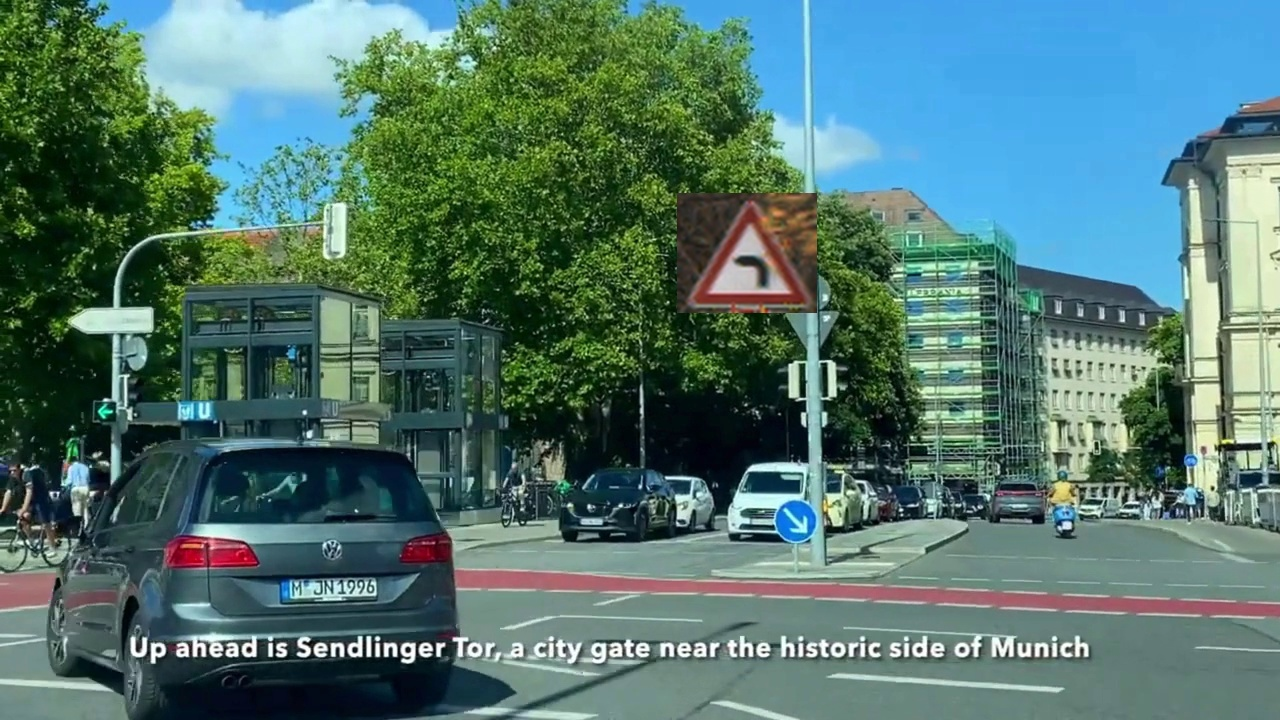Curve left: (677, 193, 817, 313)
